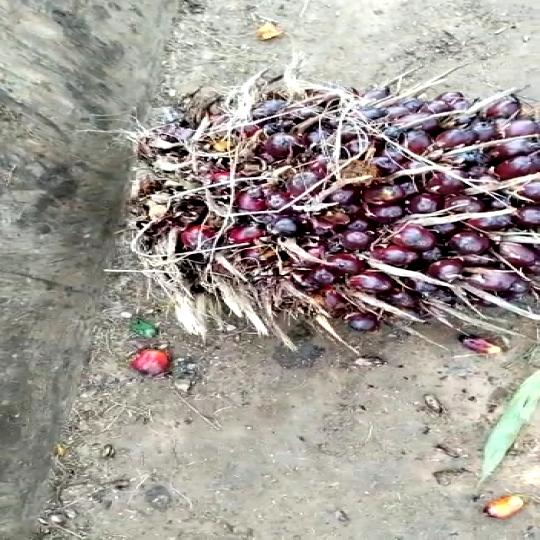kurang masak: (104, 72, 540, 361)
